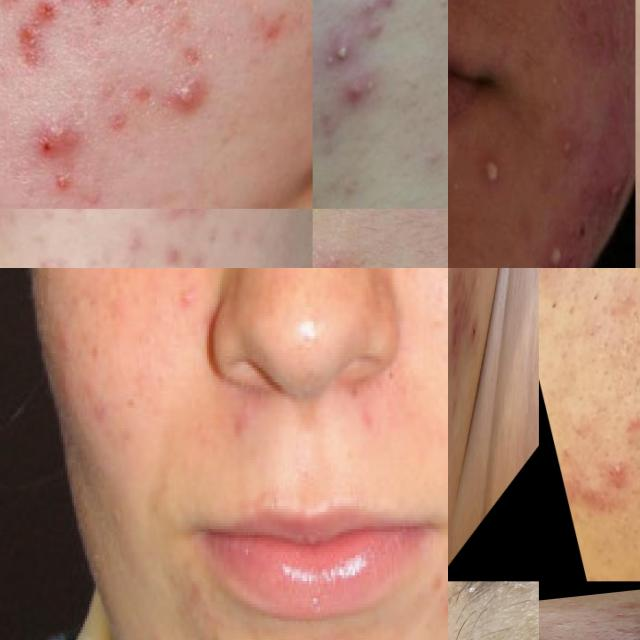acne_scars: (12, 0, 64, 85), (448, 268, 466, 377), (66, 0, 121, 29), (170, 0, 205, 20), (127, 0, 154, 22)
comedone: (599, 454, 631, 491), (365, 0, 406, 18), (472, 268, 483, 312), (593, 611, 632, 622), (620, 622, 640, 632)
papule: (20, 114, 84, 176), (112, 228, 147, 266), (356, 7, 389, 44), (172, 209, 223, 232), (155, 236, 188, 268), (26, 249, 71, 268)
pustule: (148, 76, 200, 122), (340, 70, 381, 111), (548, 127, 576, 178), (479, 152, 506, 198), (323, 35, 357, 70), (546, 231, 574, 268)
sebo-crystan-conglo: (577, 125, 627, 225)
